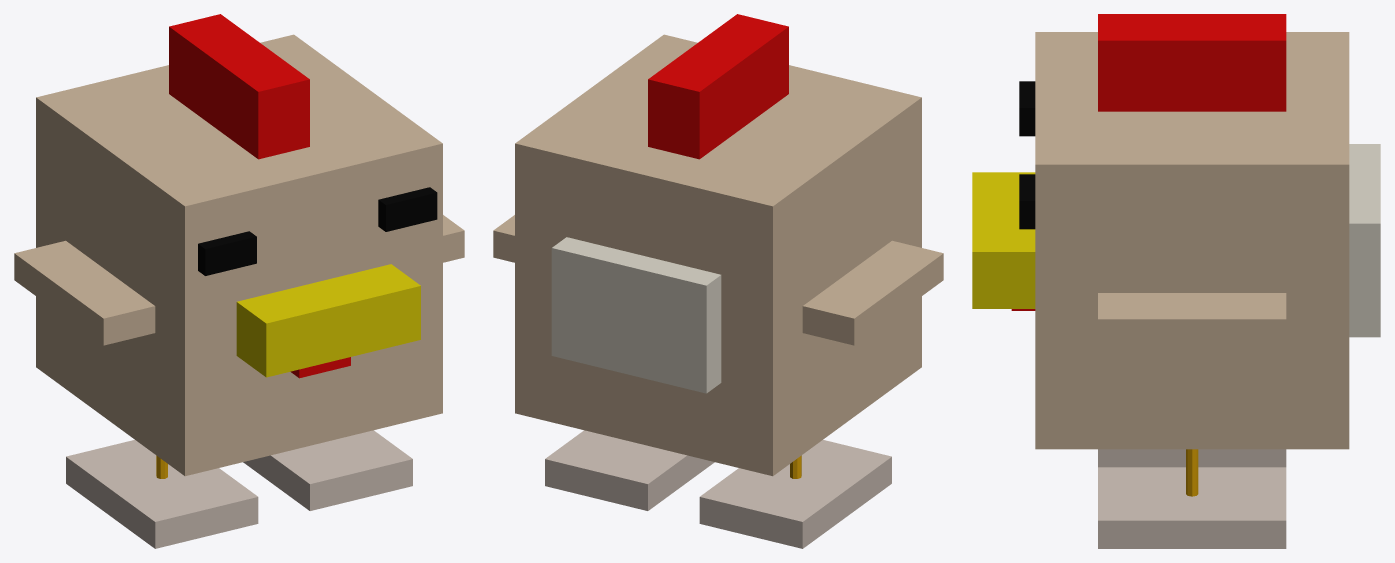
3 views of the same model, side by side, from view 1: azimuth 30°, elevation 25°; view 2: azimuth 150°, elevation 25°; view 3: azimuth 270°, elevation 25° (orthographic). The views are drawn at different scales.
Visible parts, largest first — view 1: world; view 2: world; view 3: world.
Boxes of the visible parts, x1=… form: world: x1=14, y1=14, x2=464, y2=548; world: x1=493, y1=14, x2=943, y2=548; world: x1=972, y1=14, x2=1380, y2=548.
Bounding box in the file's own units: 1.4 × 1.6 × 1.3.
